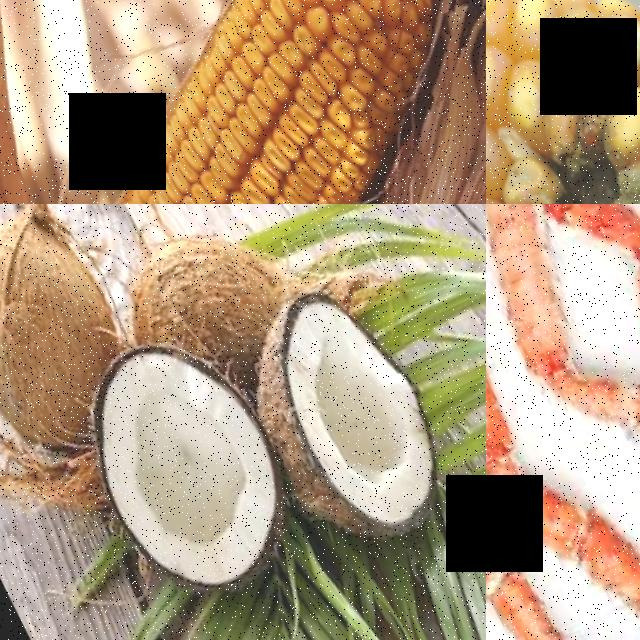coconut: (58, 314, 325, 617), (231, 269, 473, 559), (0, 204, 137, 427)
corn: (146, 0, 486, 204), (0, 52, 358, 204), (486, 0, 640, 204), (609, 0, 640, 204)
crab: (486, 204, 640, 547), (505, 422, 640, 640), (486, 204, 568, 504), (486, 204, 526, 610)
